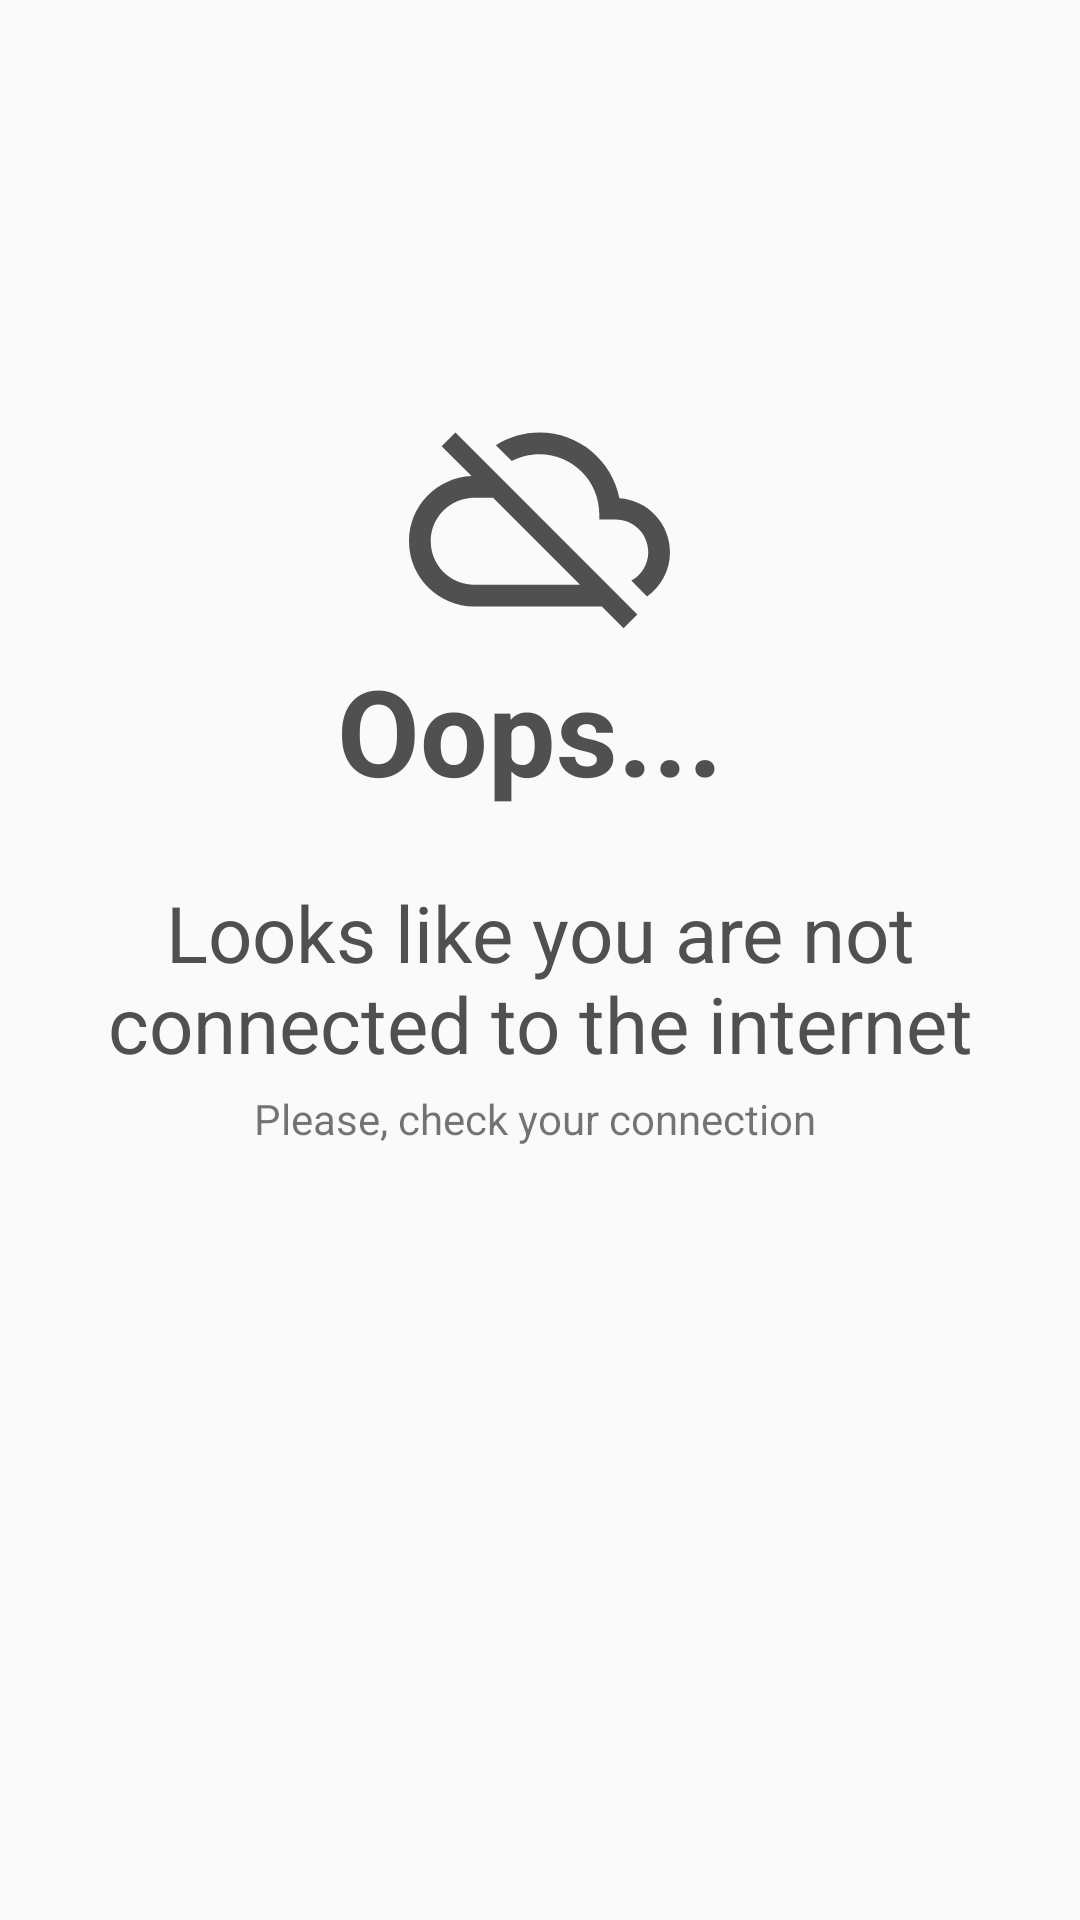

Named icons in this screenshot (1080×1920) and their centers, [x,y]:
cloud off: [539,530]
